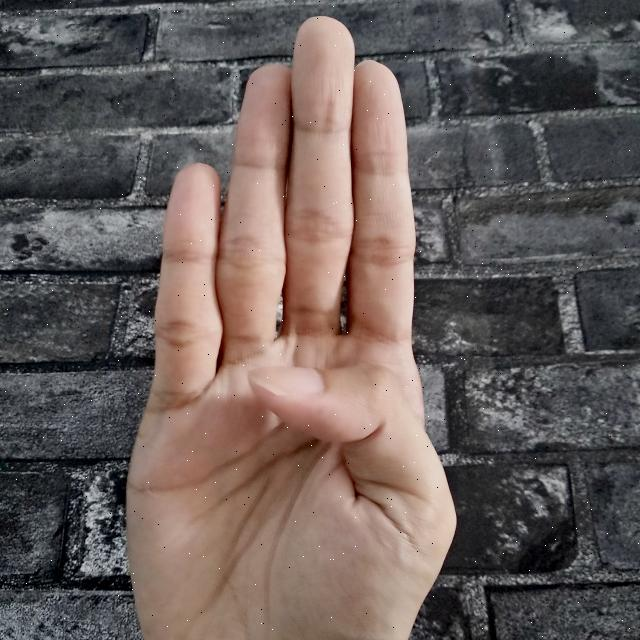B: (120, 8, 462, 640)
